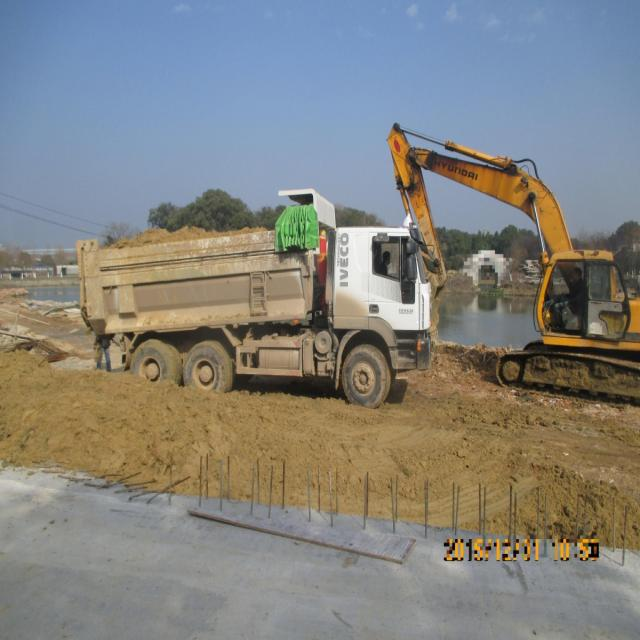excavator: (386, 122, 640, 409)
truck: (75, 189, 437, 408)
